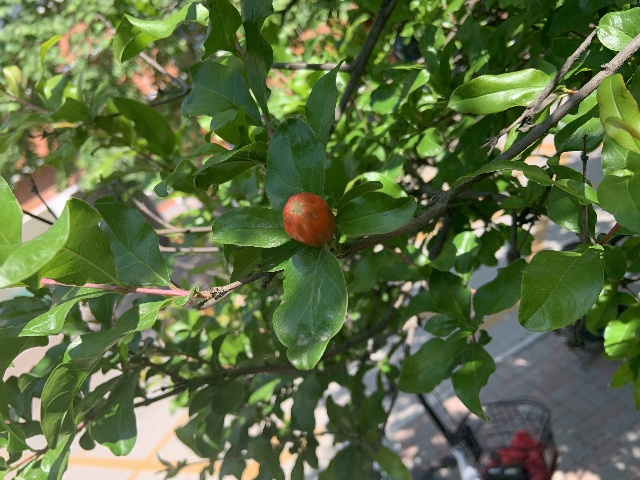bud: (282, 192, 334, 247)
